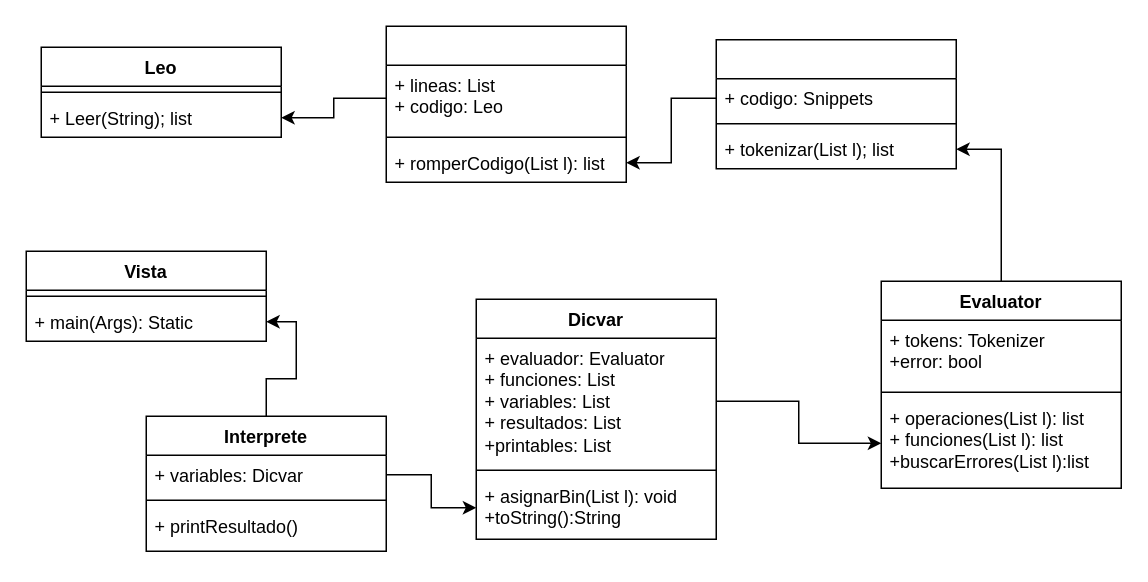
Some shapes in this 1148 by 582 pixel diagram are drawn without their labels. Each missing label, with the box of its shape:
Snippets: (385, 25, 626, 182)
Tokenizer: (715, 38, 956, 169)
